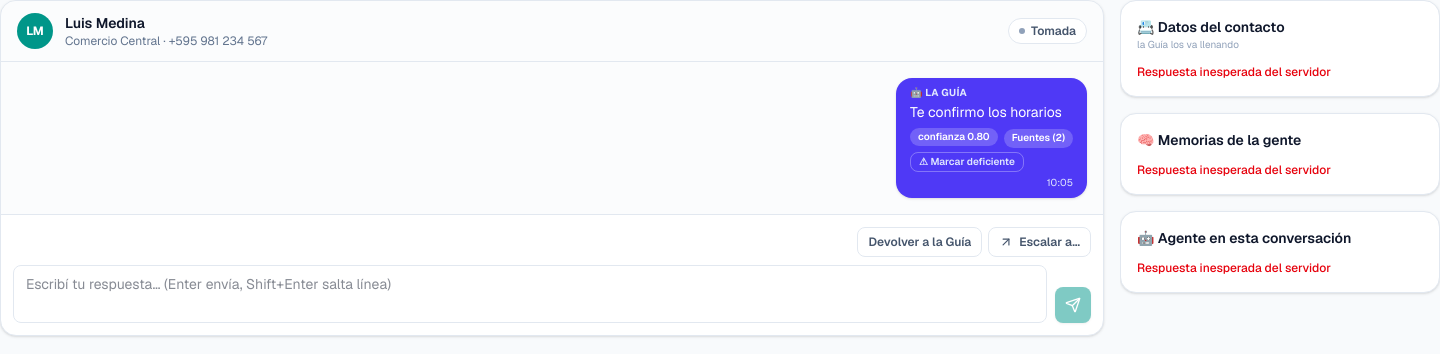
Scenario: HiloConversacion calidad medible (E4·T5) › respuesta IA sin marcar → botón «⚠ Marcar deficiente»; al éxito refetcha y muestra «⚠ marcada deficiente»
Click the button "⚠ Marcar deficiente": {"x": 967, "y": 162} 910,152 -> 1024,172
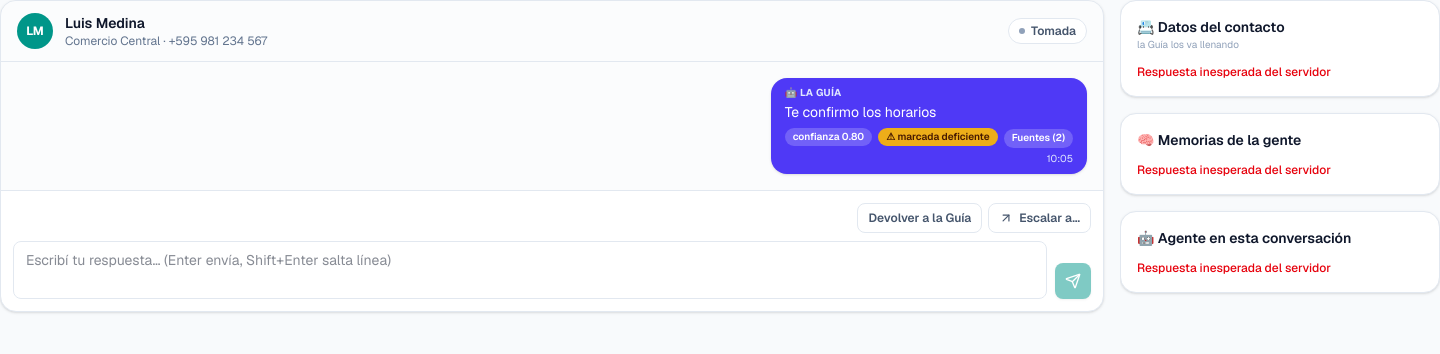
Expected: the text "⚠ marcada deficiente" is shown, 878,128 -> 998,146
Expected: the button "⚠ Marcar deficiente" is gone
